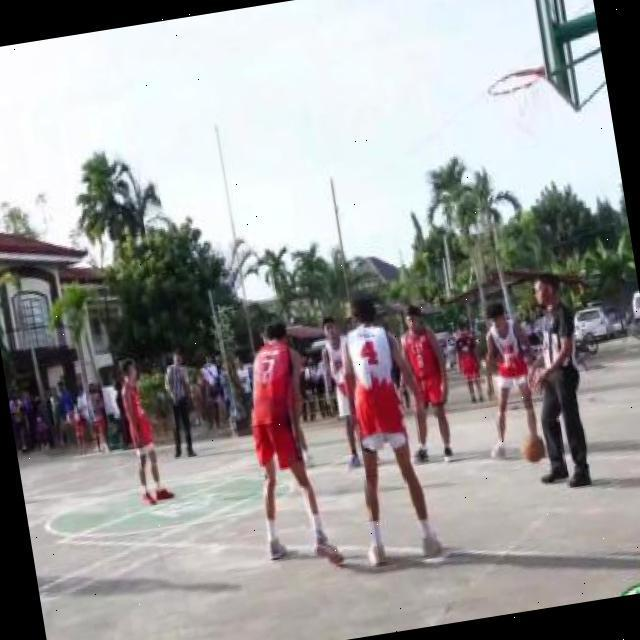ball: (520, 434, 548, 468)
hoop: (479, 67, 549, 105)
